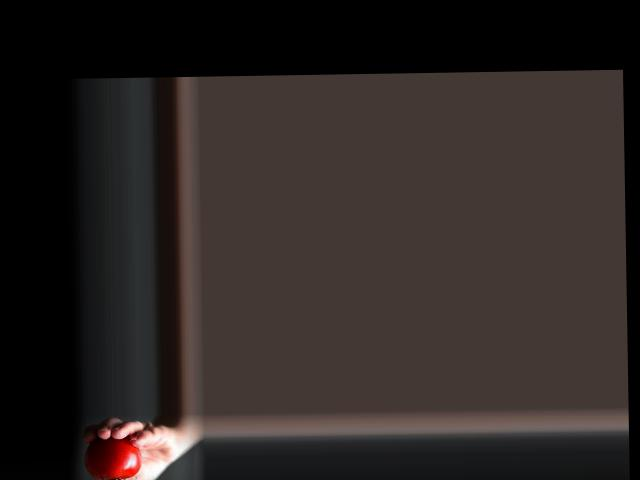tomato: (84, 435, 142, 480)
